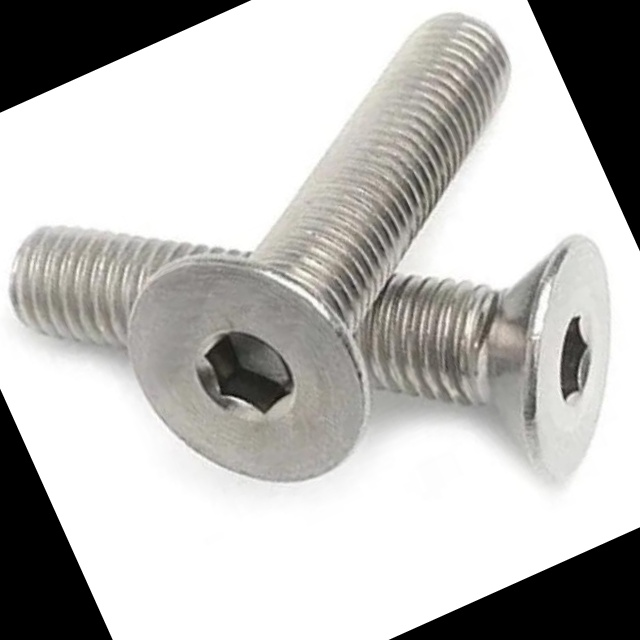allen: (97, 206, 401, 531), (448, 225, 640, 497)
